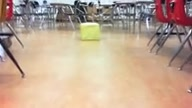cube: (80, 23, 99, 41)
